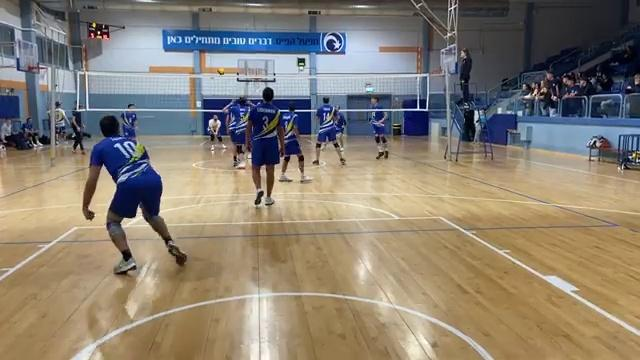ball: (217, 69, 226, 77)
